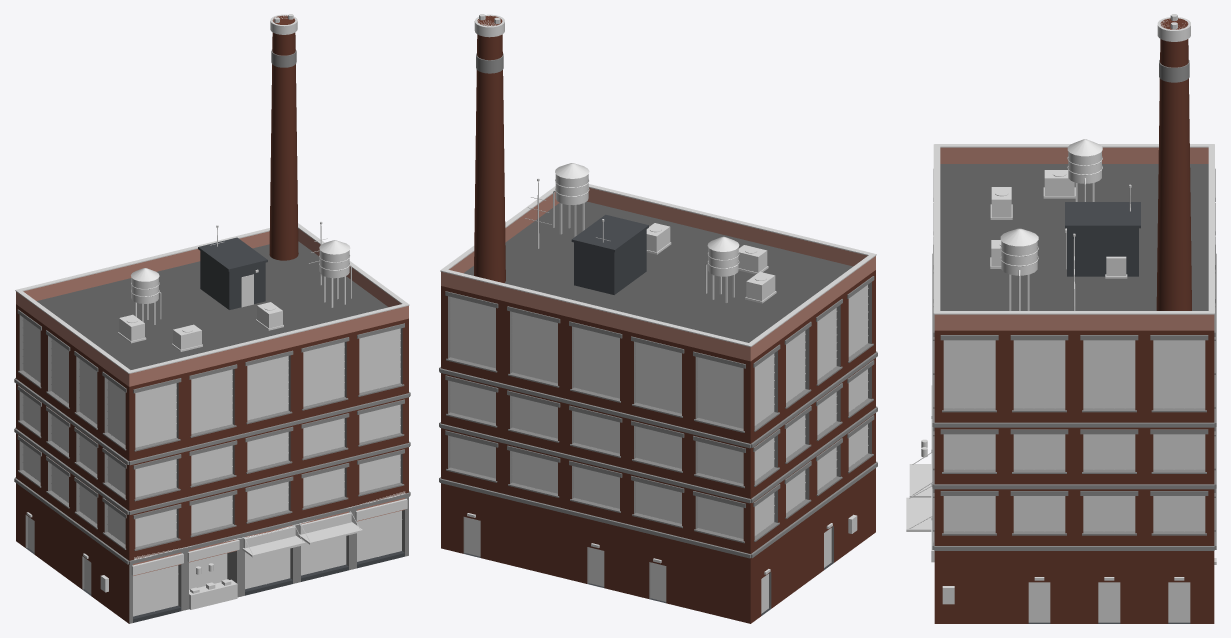
File: LB_CW_Warehouse_C.fbx
The picture shows the model from 3 angles, left to right: view 1: azimuth 30°, elevation 25°; view 2: azimuth 150°, elevation 25°; view 3: azimuth 270°, elevation 25°; orthographic projection. The views are drawn at different scales.
Parts seen in each view (by area): view 1: LB_CW_Warehouse_C_LOD0; view 2: LB_CW_Warehouse_C_LOD0; view 3: LB_CW_Warehouse_C_LOD0.
Part boxes in pixels (x1,y1,x2,y2): LB_CW_Warehouse_C_LOD0: [14, 14, 410, 623]; LB_CW_Warehouse_C_LOD0: [439, 14, 877, 623]; LB_CW_Warehouse_C_LOD0: [906, 14, 1216, 623].
Size of what is drawn, in the model's own units: 20.5 by 32.45 by 15.54.
